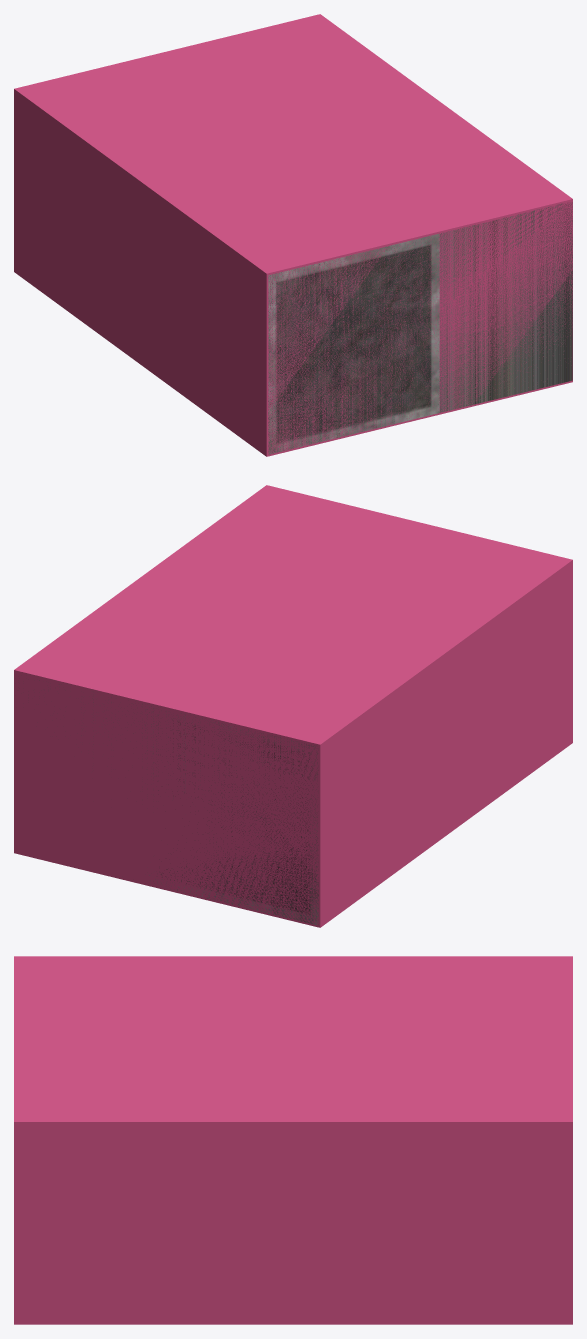
The model's file is hvac_duct_T.DAE.
The picture shows the model from 3 angles, top to bottom: view 1: azimuth 30°, elevation 25°; view 2: azimuth 150°, elevation 25°; view 3: azimuth 270°, elevation 25°; orthographic projection. The views are drawn at different scales.
Visible parts, largest first — view 1: bounds, hvac_duct_T, colbox-01; view 2: bounds, hvac_duct_T; view 3: bounds.
Boxes of the visible parts, left/top/right/bottom form: bounds: left=14, top=14, right=572, bottom=456; hvac_duct_T: left=268, top=233, right=439, bottom=454; colbox-01: left=268, top=202, right=572, bottom=452; bounds: left=14, top=485, right=572, bottom=927; hvac_duct_T: left=149, top=717, right=318, bottom=924; bounds: left=14, top=956, right=572, bottom=1324.
Size of the model in its own units: 140 by 200 by 80.
